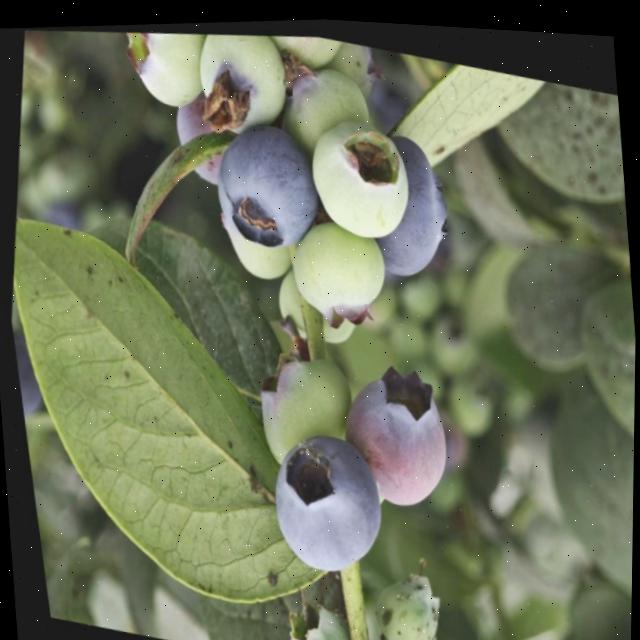RipeBlueBerry: (248, 405, 395, 581), (196, 102, 330, 260), (291, 93, 424, 245)
Semi-RipeBlueBerry: (318, 336, 464, 518)
UnripeBlueBerry: (275, 200, 396, 332), (185, 18, 301, 143), (108, 20, 215, 115)
